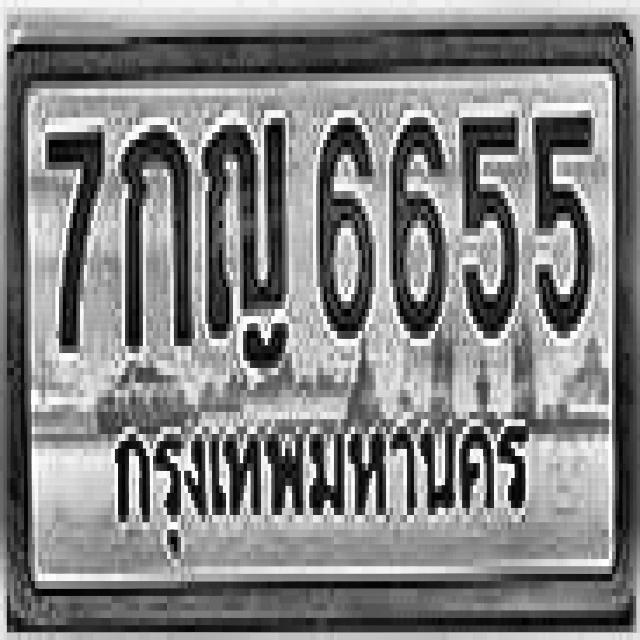license-plate: (11, 36, 632, 615)
